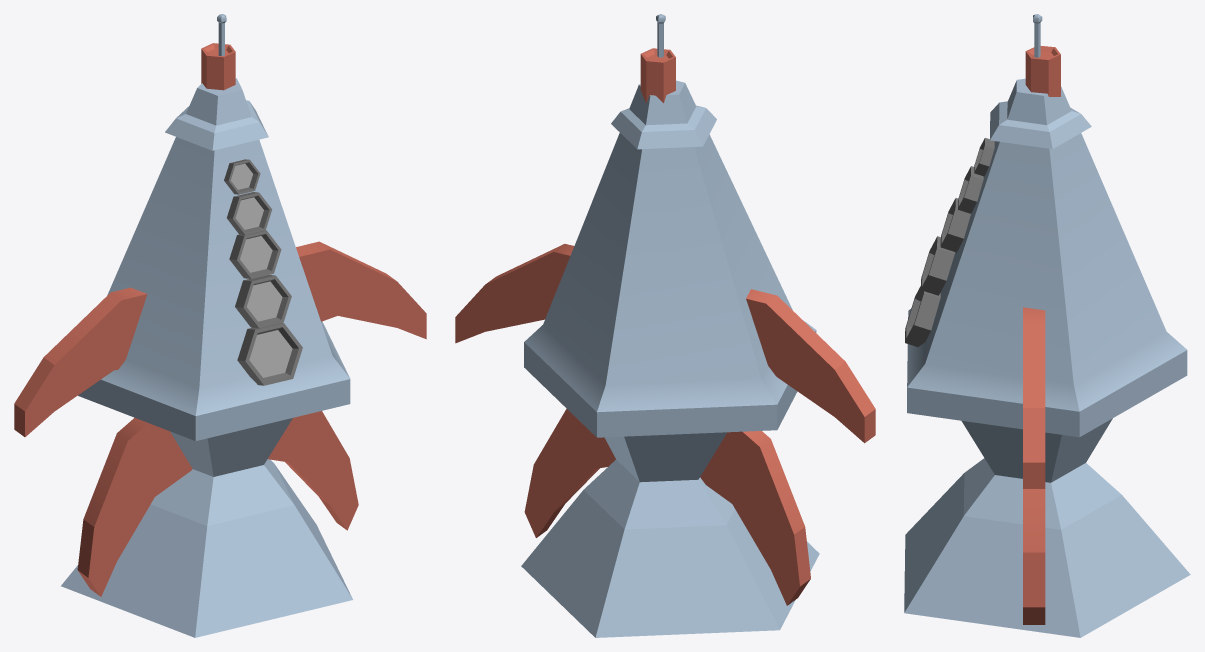
File: SpaceShip_01.fbx
3 views of the same model, side by side, from view 1: azimuth 30°, elevation 25°; view 2: azimuth 150°, elevation 25°; view 3: azimuth 270°, elevation 25° (orthographic). The views are drawn at different scales.
Visible parts, largest first — view 1: pCube72, polySurface12, polySurface13, polySurface11, polySurface10; view 2: pCube72; view 3: pCube72.
Boxes of the visible parts, x1,y1,x2,y2 form: pCube72: (14,14,426,637); polySurface12: (249,330,292,377); polySurface13: (247,281,282,321); polySurface11: (240,236,272,272); polySurface10: (235,197,263,229); pCube72: (455,14,875,637); pCube72: (904,14,1190,637).
Bounding box in the file's own units: 235 × 310 × 142.
